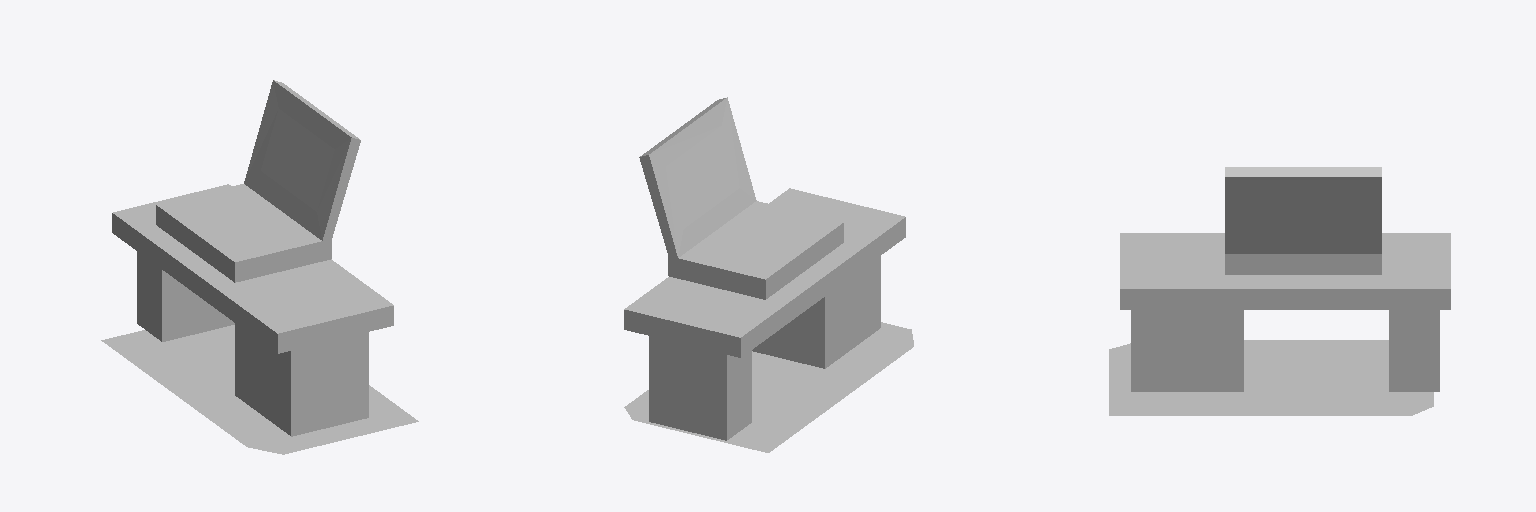
File: Desk 3.obj
3 renders of one model, left to right at view 1: azimuth 30°, elevation 25°; view 2: azimuth 150°, elevation 25°; view 3: azimuth 270°, elevation 25°, orthographic.
Parts seen in each view (by area): view 1: polygon2, polygon1, polygon0; view 2: polygon2, polygon1, polygon0; view 3: polygon2, polygon1.
Boxes of the visible parts, <box> form: polygon2: <box>112,80,393,436</box>; polygon1: <box>101,325,418,454</box>; polygon0: <box>261,109,334,211</box>; polygon2: <box>624,97,905,440</box>; polygon1: <box>624,322,913,452</box>; polygon0: <box>666,126,739,228</box>; polygon2: <box>1120,167,1450,391</box>; polygon1: <box>1109,340,1433,415</box>.
Bounding box in the file's own units: 16 × 23.99 × 30.5.